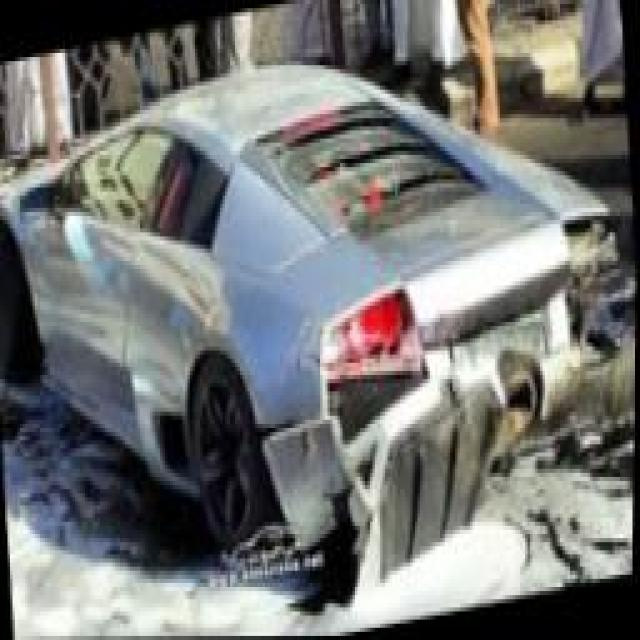Bumper: (265, 261, 629, 545)
Light: (558, 204, 623, 286)
